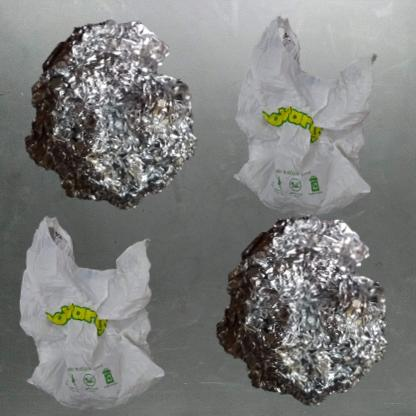aluminio: (10, 10, 208, 226), (213, 213, 389, 409)
bolsa: (213, 10, 416, 249), (10, 213, 181, 416)
